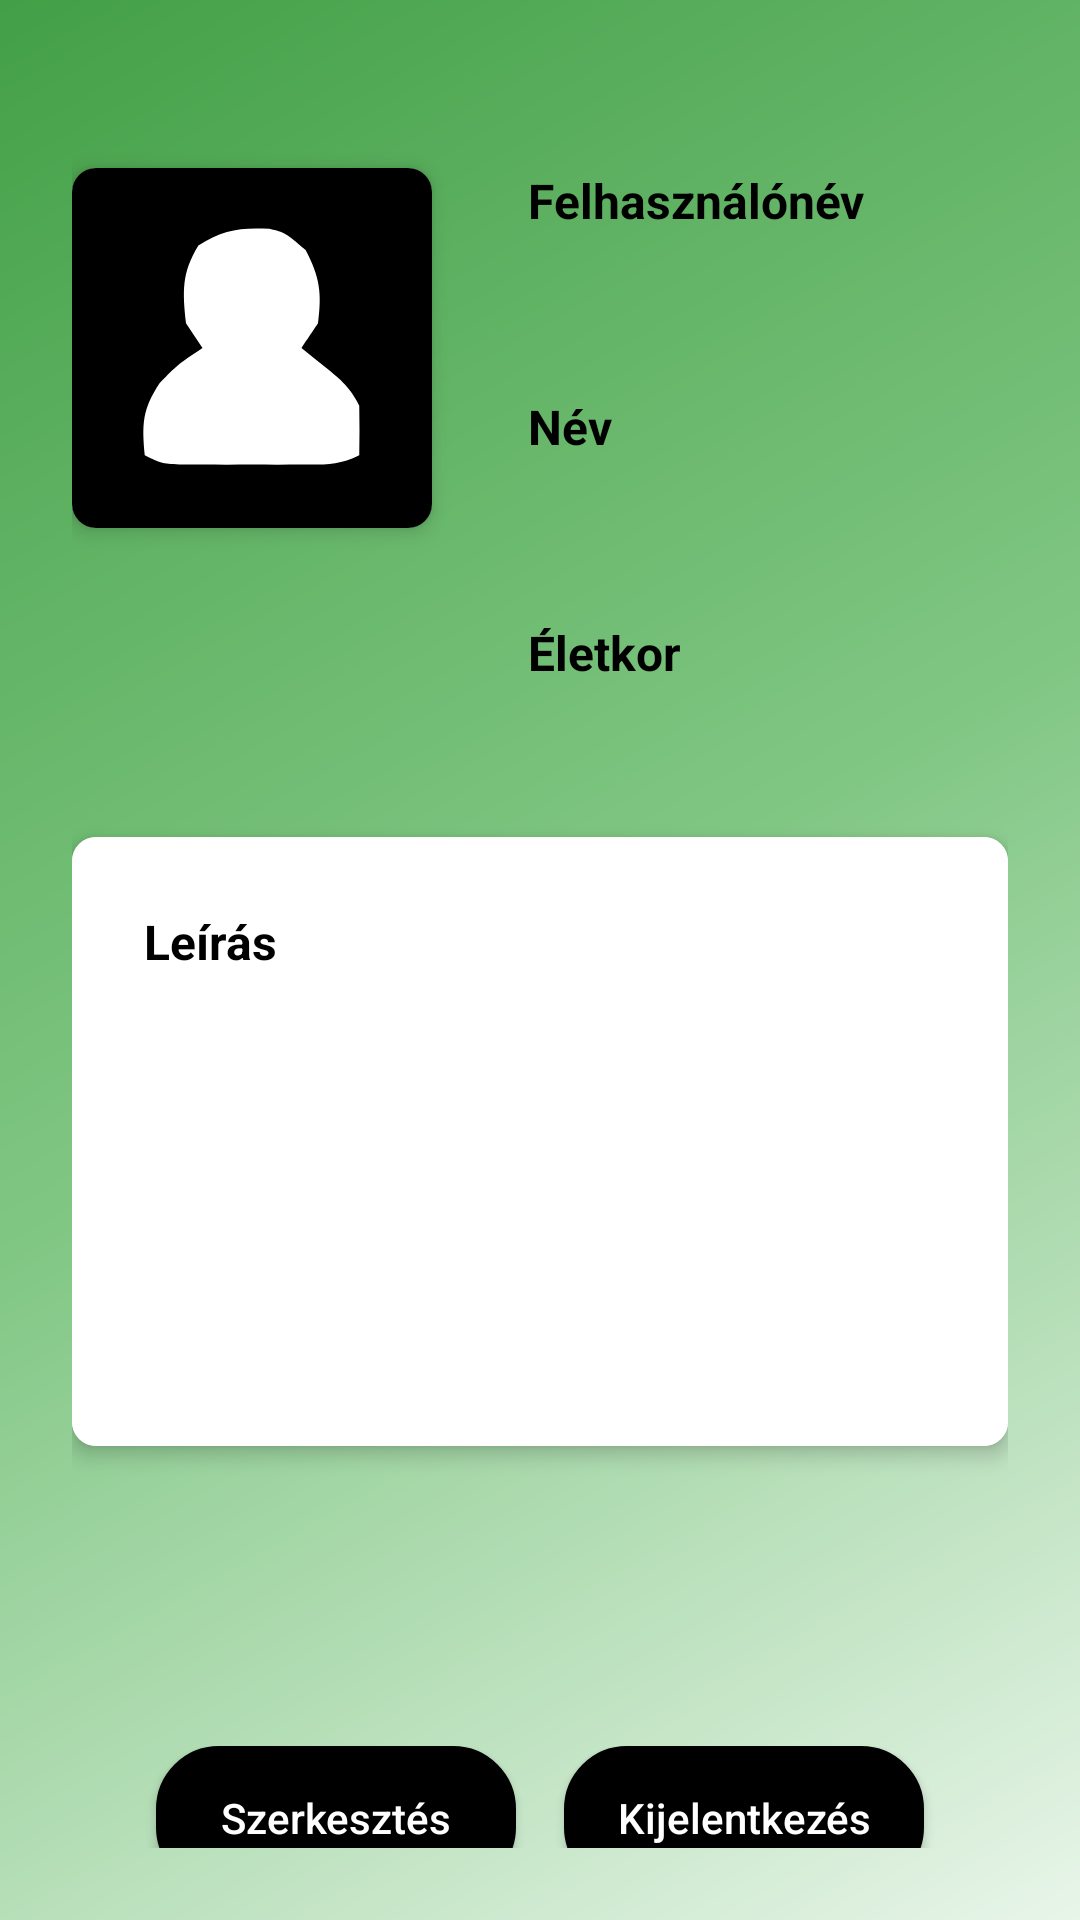

Where to tap for icons on this 1080×1920 app screen, as point (x, y):
Profilkép: point (252, 348)
